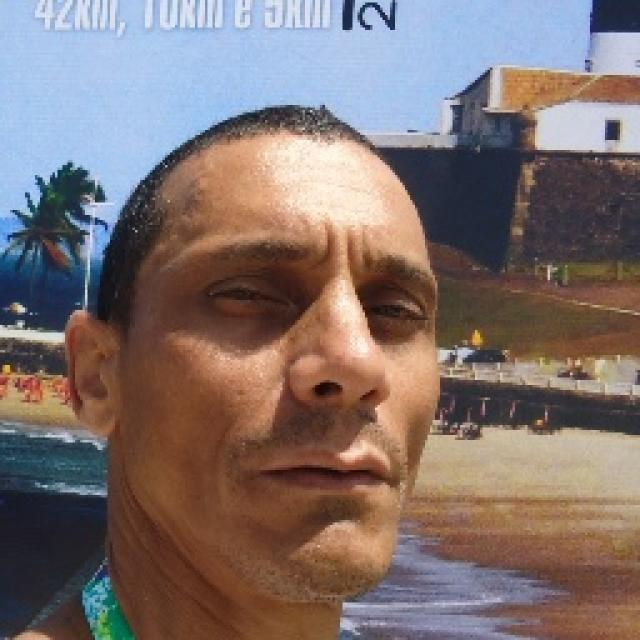earlobe: (76, 408, 120, 437)
eye: (206, 278, 287, 312), (371, 295, 427, 328)
nose: (290, 388, 388, 442)
wholeear: (64, 309, 120, 436)
